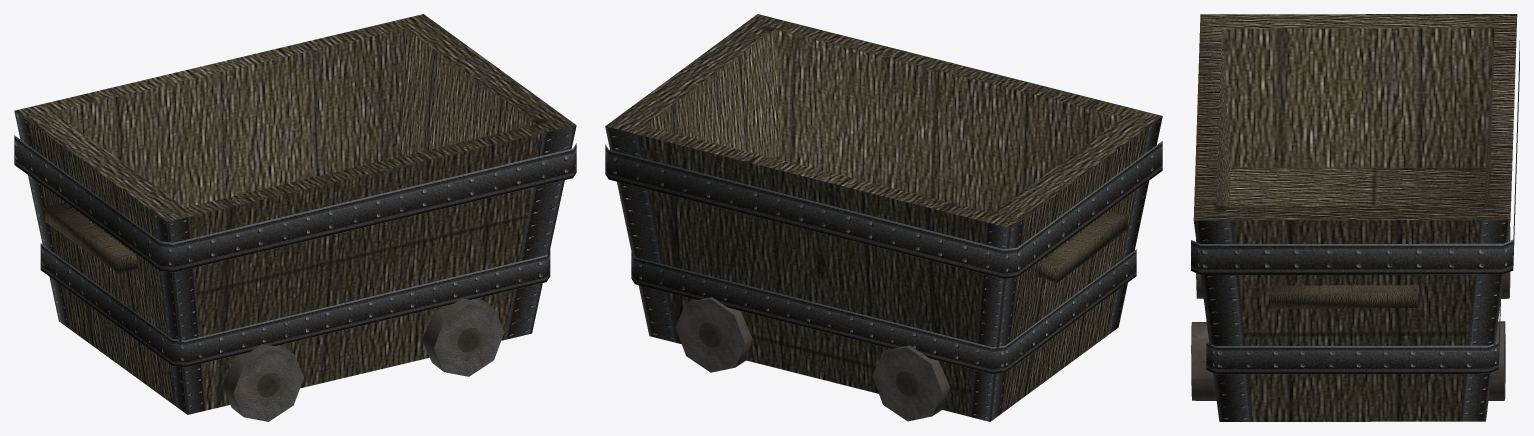
File: cart.glb
3 renders of one model, left to right at view 1: azimuth 30°, elevation 25°; view 2: azimuth 150°, elevation 25°; view 3: azimuth 270°, elevation 25°, orthographic. The views are drawn at different scales.
Parts seen in each view (by area): view 1: wall_wood1.jpg__, modern_mine_beam.jpg__, metal_rusted_circle.jpg__, metal_rusted.jpg__; view 2: wall_wood1.jpg__, modern_mine_beam.jpg__, metal_rusted_circle.jpg__, metal_rusted.jpg__; view 3: wall_wood1.jpg__, modern_mine_beam.jpg__, metal_rusted.jpg__.
Part boxes in pixels (x1,y1,x2,y2): wall_wood1.jpg__: (14, 14, 575, 410); modern_mine_beam.jpg__: (14, 111, 576, 414); metal_rusted_circle.jpg__: (233, 304, 504, 421); metal_rusted.jpg__: (222, 298, 493, 416); wall_wood1.jpg__: (605, 14, 1162, 416); modern_mine_beam.jpg__: (605, 116, 1162, 421); metal_rusted_circle.jpg__: (675, 298, 941, 421); metal_rusted.jpg__: (686, 297, 950, 415); wall_wood1.jpg__: (1193, 14, 1517, 421); modern_mine_beam.jpg__: (1191, 40, 1519, 421); metal_rusted.jpg__: (1191, 234, 1509, 400).
Size of the model in its own units: 5.58 by 2.85 by 3.63.
4 materials, 4 textured.
